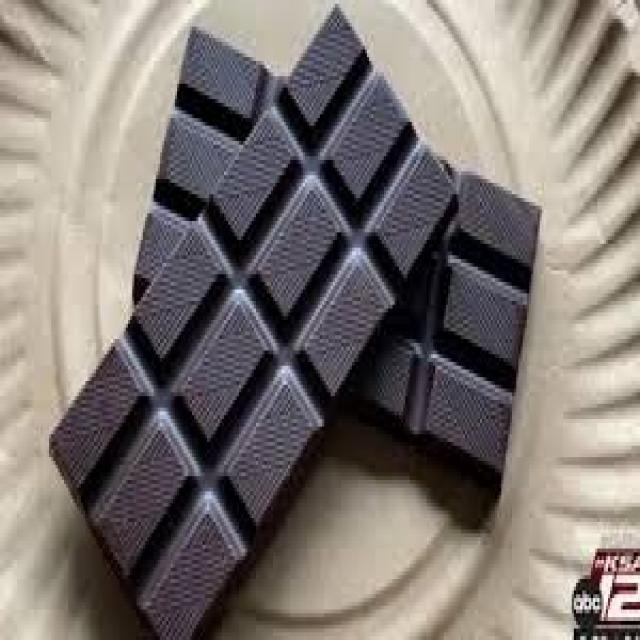chocolate: (49, 1, 541, 640)
